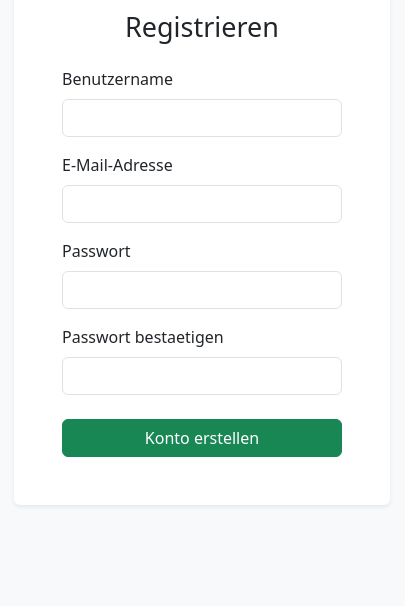
Scenario: SignupPage › creates an account and stores the token when provided
The image size is (405, 606).
Type "demo" into the field labelled "Benutzername" at (202, 118), box [62, 99, 342, 137]
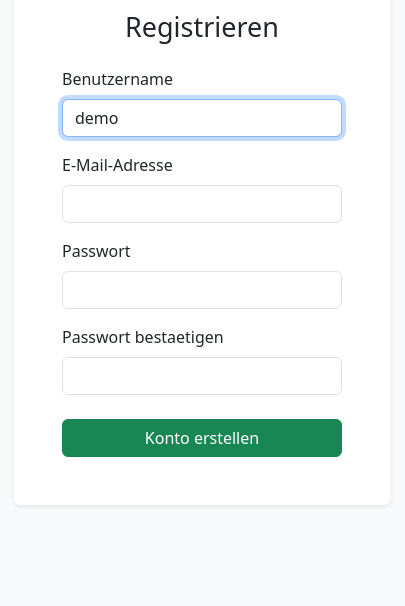
Type "demo@example.com" into the field labelled "E-Mail-Adresse" at (202, 204), box [62, 185, 342, 223]
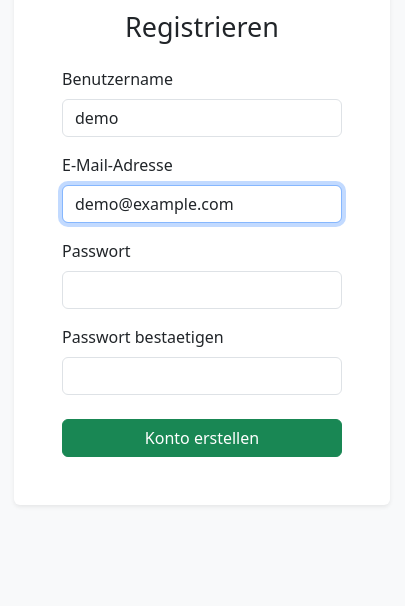
Type "password" into the password field labelled "Passwort" at (202, 290), box [62, 271, 342, 309]
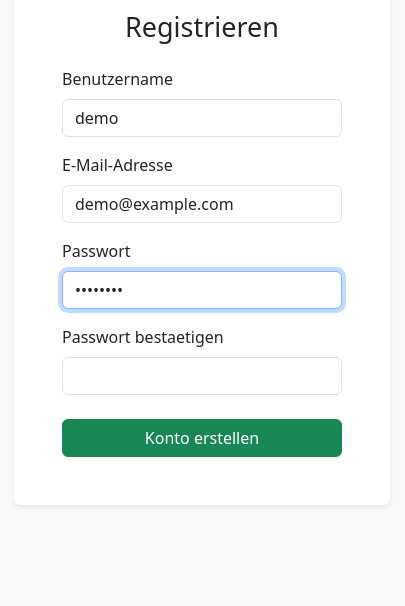
Type "password" into the password field labelled "Passwort bestaetigen" at (202, 376), box [62, 357, 342, 395]
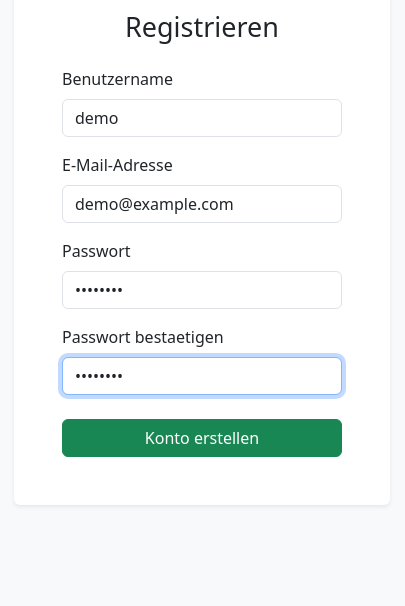
Click the button "Konto erstellen" at (202, 438), box [62, 419, 342, 457]
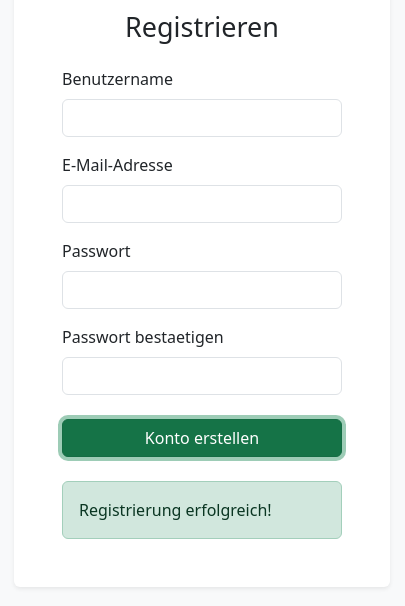
Expected: the message shows "Registrierung erfolgreich", [79, 499, 272, 521]
